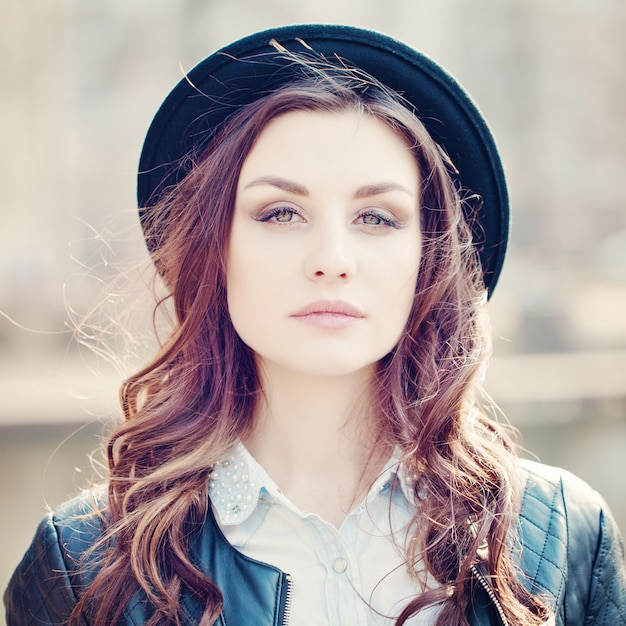teen: (191, 70, 466, 414)
